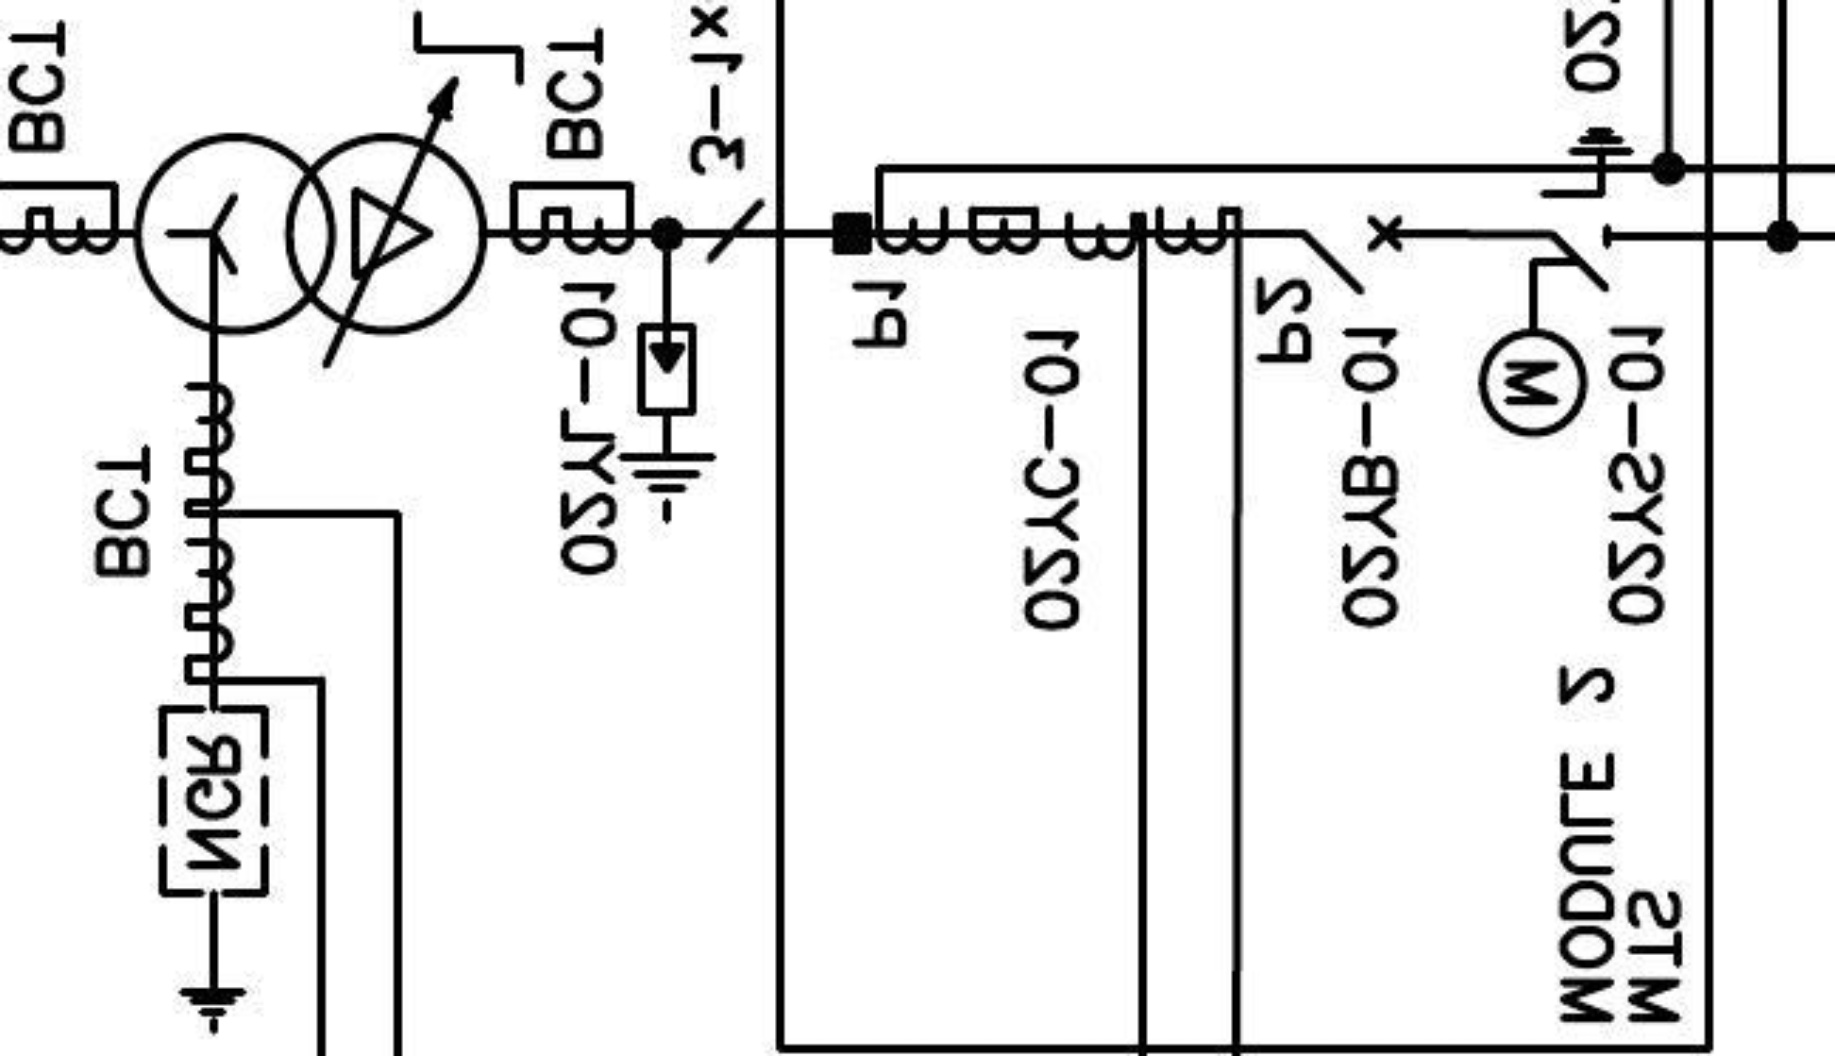11522_tx_dyn1: (131, 130, 489, 338)
115_3ways_ds_w_motor: (1476, 123, 1637, 441)
115_breaker: (1299, 213, 1404, 299)
115_la: (615, 320, 720, 527)
NGR_future: (156, 703, 271, 1037)
